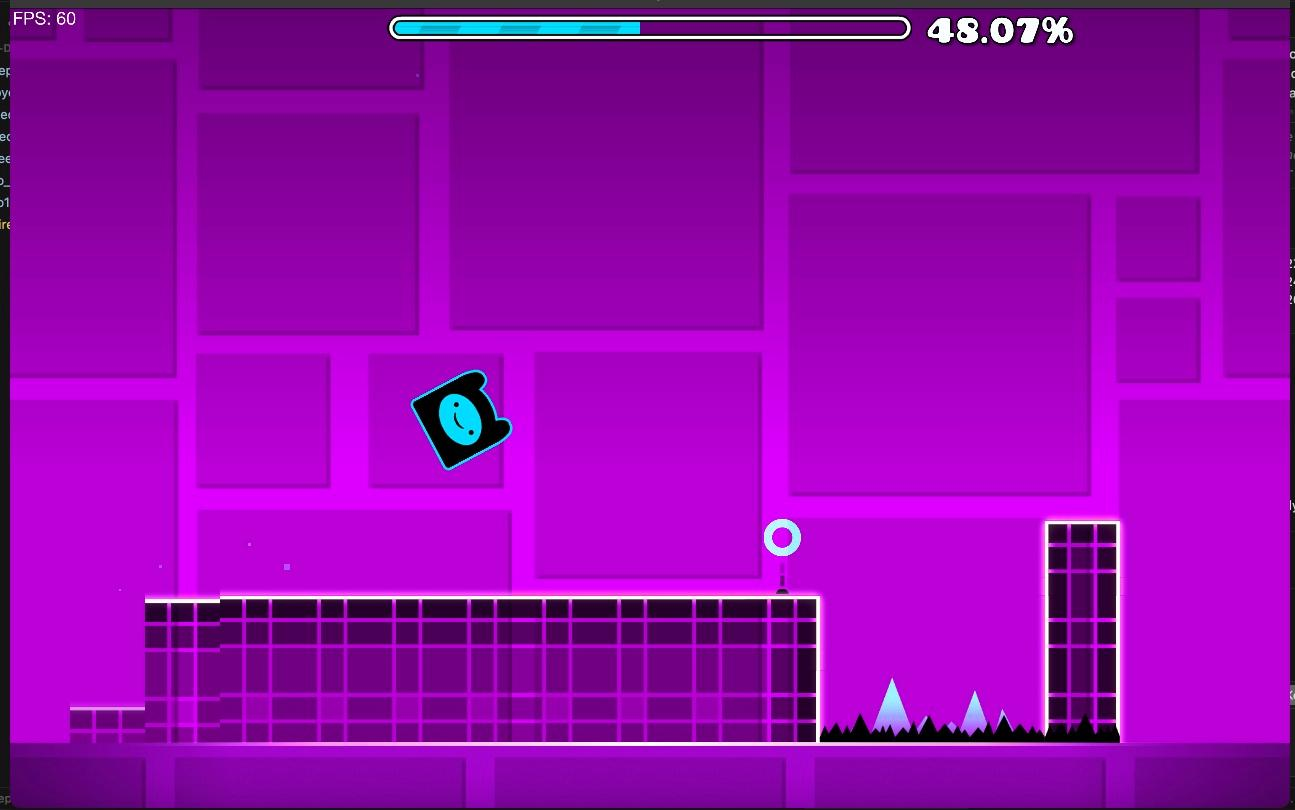block: (149, 601, 815, 743), (1047, 524, 1119, 738)
player: (411, 370, 510, 469)
spike: (831, 679, 933, 737), (935, 692, 1038, 738)
